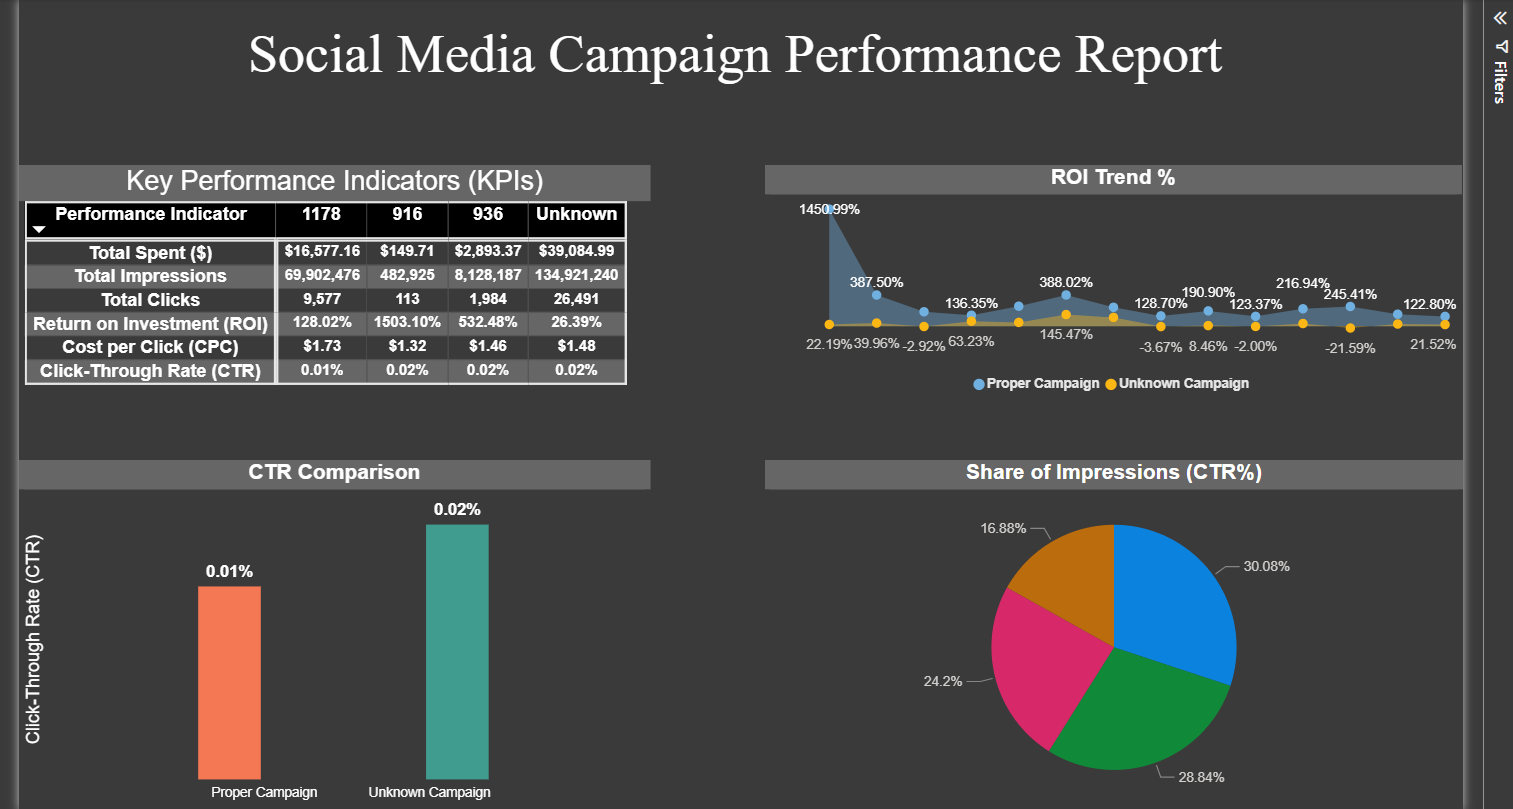

Layout of this report page (visuals, bound fields, positions):
{"tool":"powerbi","page":{"name":"Page 1","canvas":[1280,720],"ordinal":0},"visuals":[{"type":"pivotTable","title":"Key Performance Indicators (KPIs)","fields":{"Rows":["Metrics.Performance Indicator"],"Values":["Metrics.Metric Value"],"Columns":["data.campaign_id"]},"box":[0,146.9,559.7,213.1],"z":0},{"type":"clusteredColumnChart","title":"CTR Comparison","fields":{"Y":["data.Click-Through Rate (CTR)"],"Category":["data.Campaign_Type"],"Series":["data.Campaign_Type"]},"box":[0,408.8,559.5,311.2],"z":1000},{"type":"pieChart","title":"Share of Impressions (CTR%)","fields":{"Category":["data.campaign_id"],"Y":["data.Click-Through Rate (CTR)"]},"box":[661.5,408.8,618.9,311.2],"z":2000},{"type":"lineChart","title":"ROI Trend %","fields":{"Category":["data.reporting_start.Variation.Date Hierarchy.Month","data.reporting_start.Variation.Date Hierarchy.Day"],"Series":["data.Campaign_Type"],"Y":["data.Return on Investment (ROI)"]},"box":[661.5,147.2,618,212.8],"z":3000},{"type":"textbox","box":[100.2,16,1069.4,85.1],"z":4000}]}

Visuals, with their boxes on the page's 1280x720 design canvas (x1, y1, x2, y2). These are canvas units, not pixel positions in the 1513x809 screenshot, which may show the page scaled, cropped or inside an application window:
"Key Performance Indicators (KPIs)" pivotTable: {"left": 0, "top": 147, "right": 560, "bottom": 360}
"CTR Comparison" clusteredColumnChart: {"left": 0, "top": 409, "right": 560, "bottom": 720}
"Share of Impressions (CTR%)" pieChart: {"left": 662, "top": 409, "right": 1280, "bottom": 720}
"ROI Trend %" lineChart: {"left": 662, "top": 147, "right": 1280, "bottom": 360}
textbox: {"left": 100, "top": 16, "right": 1170, "bottom": 101}
